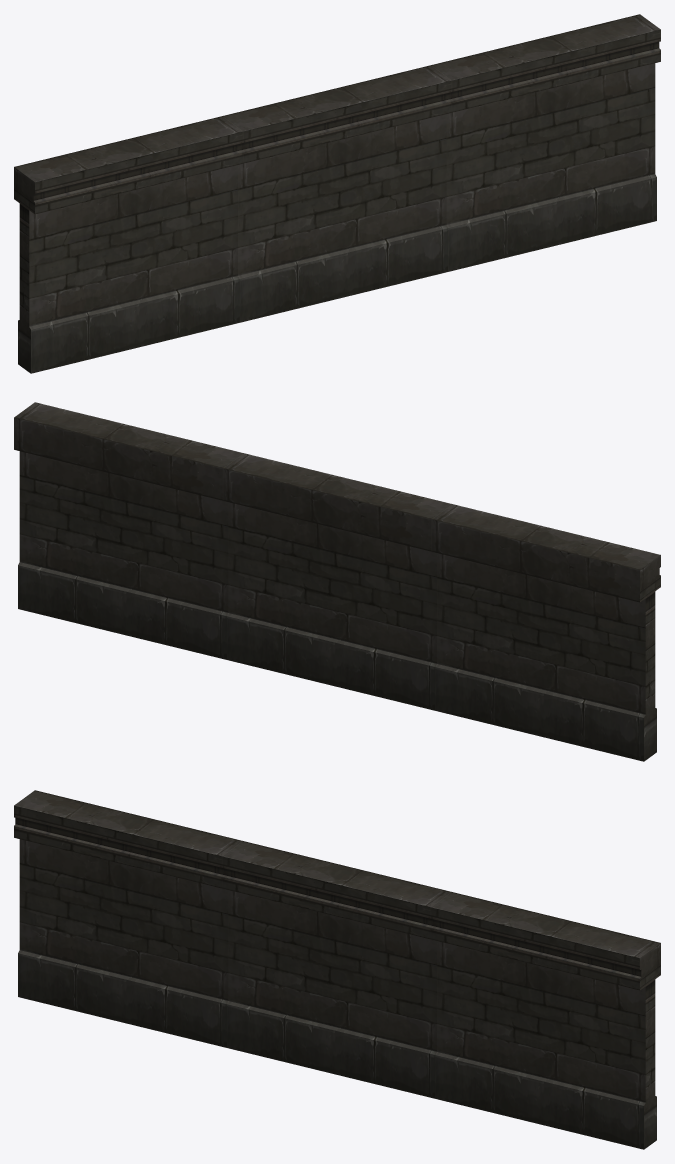
The model's file is sewer_wall001.FBX.
3 renders of one model, top to bottom at view 1: azimuth 30°, elevation 25°; view 2: azimuth 150°, elevation 25°; view 3: azimuth 330°, elevation 25°, orthographic.
Visible parts, largest first — view 1: sewer_wall001; view 2: sewer_wall001; view 3: sewer_wall001.
Boxes of the visible parts, x1,y1,x2,y2 form: sewer_wall001: (14,14,660,373); sewer_wall001: (14,402,660,761); sewer_wall001: (14,790,660,1149).
Bounding box in the file's own units: 2002 × 594 × 116.
